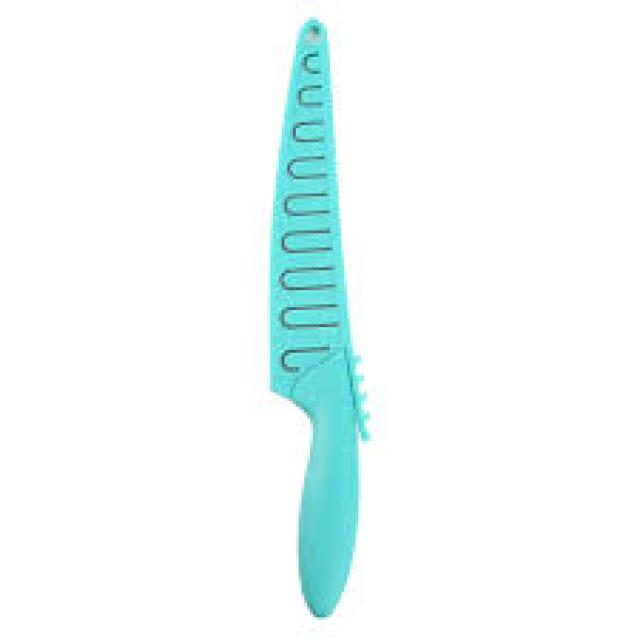Knife: (264, 14, 370, 617)
